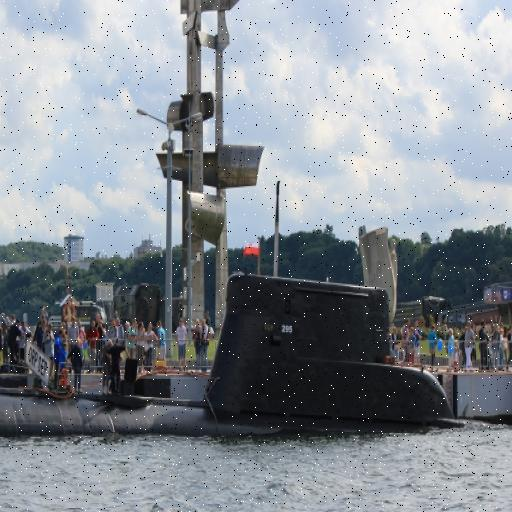submarine: (1, 274, 486, 442)
